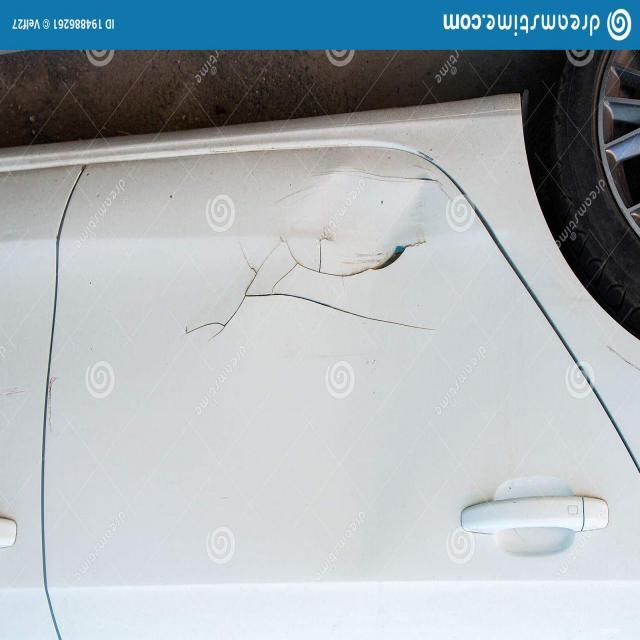dent: (186, 155, 473, 345)
